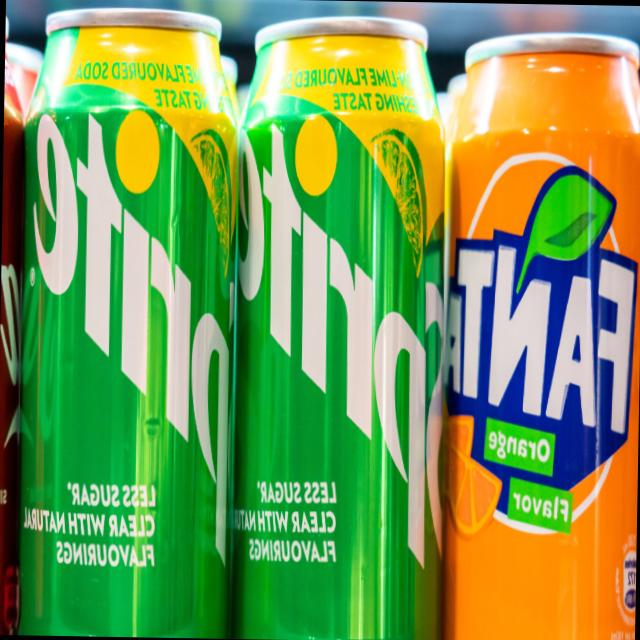sprite: (228, 25, 453, 640), (22, 32, 235, 638)
